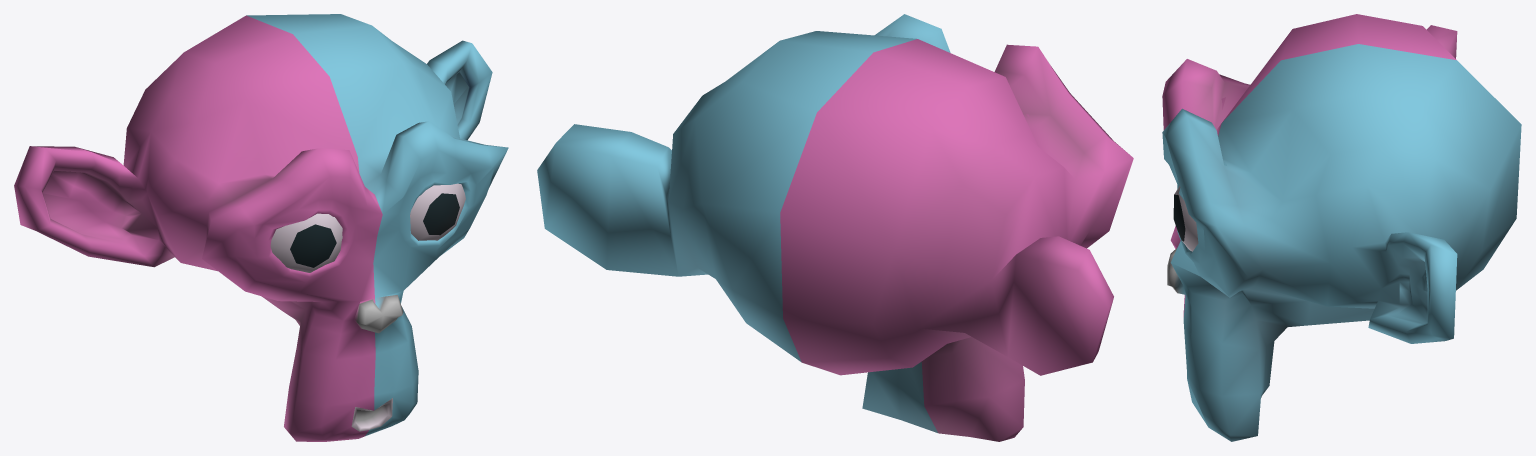
The model's file is monkey.glb.
The picture shows the model from 3 angles, left to right: view 1: azimuth 30°, elevation 25°; view 2: azimuth 150°, elevation 25°; view 3: azimuth 270°, elevation 25°; orthographic projection. The views are drawn at different scales.
Parts seen in each view (by area): view 1: Monkey; view 2: Monkey; view 3: Monkey.
Boxes of the visible parts, x1,y1,x2,y2 form: Monkey: (14,14,508,441); Monkey: (537,14,1133,441); Monkey: (1162,14,1521,441).
Bounding box in the file's own units: 8.47 × 6.1 × 5.27.
